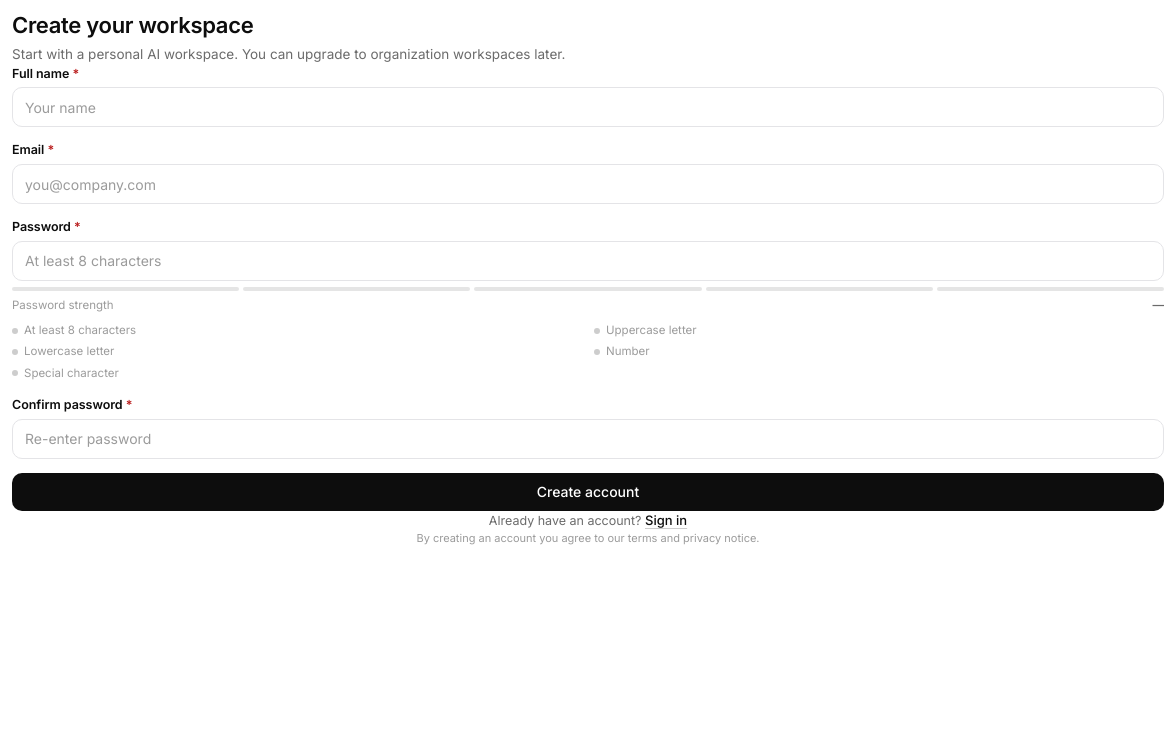
Test: SignupForm › flags mismatched passwords on submit
Type "Naruto" into the field labelled "Full name *" at [592, 107], box [25, 88, 1159, 126]
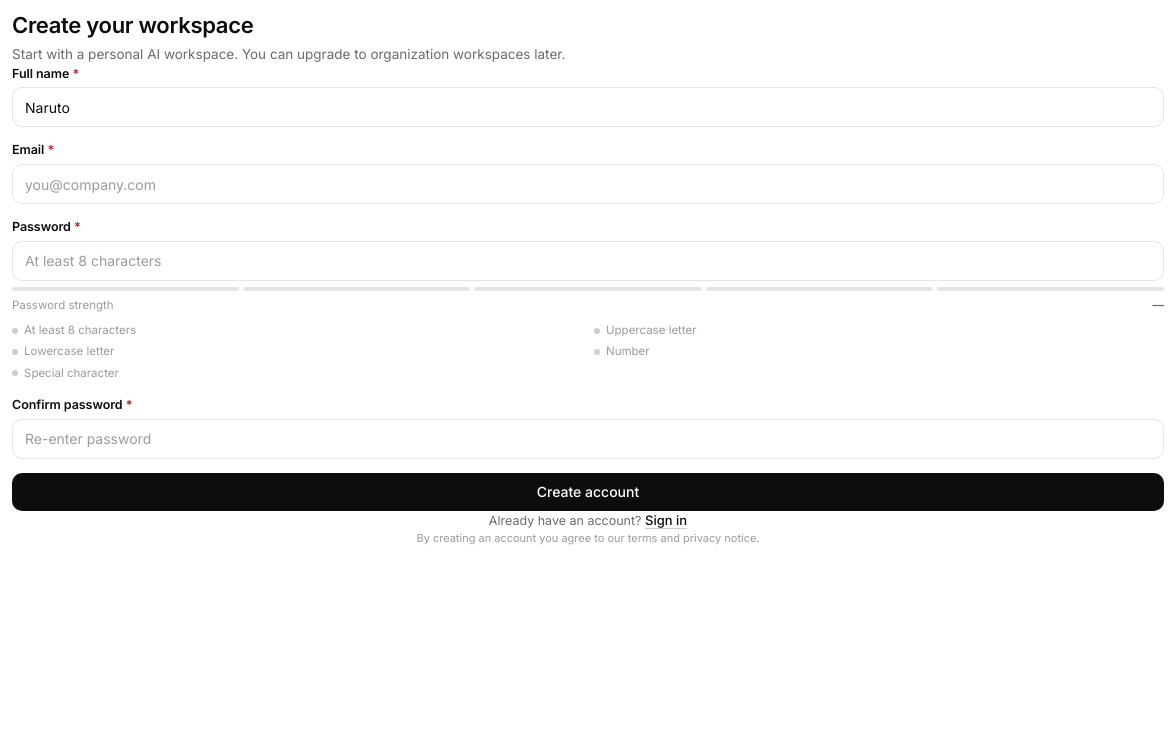
Type "n@k.co" into the field labelled "Email *" at [592, 184], box [25, 165, 1159, 203]
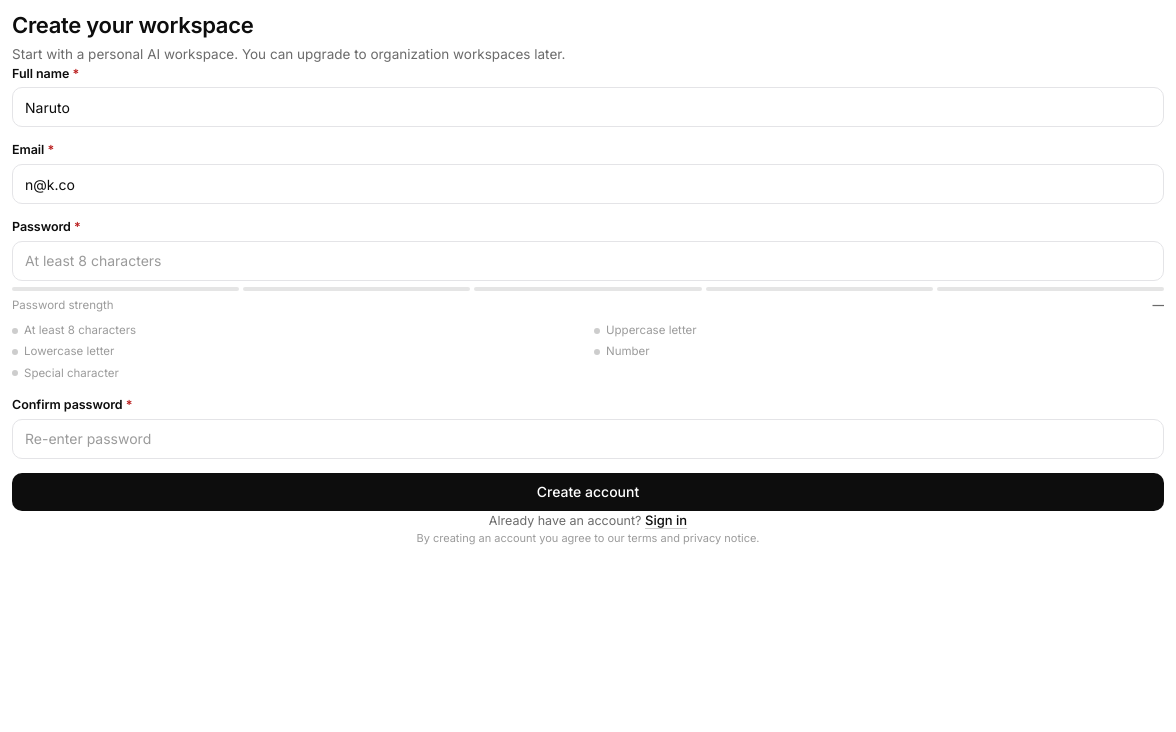
Type "abcd1234" into the password field labelled "Password *" at [592, 261], box [25, 242, 1159, 280]
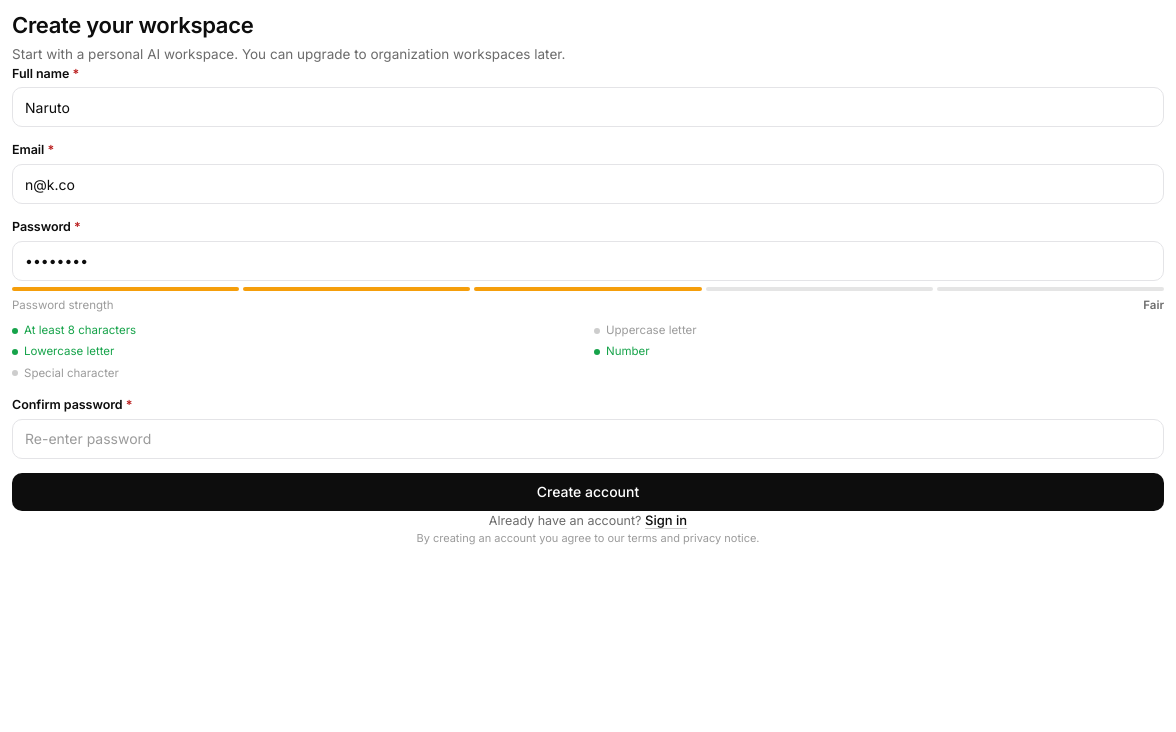
Type "different1" into the password field labelled "Confirm password *" at [592, 439], box [25, 420, 1159, 458]
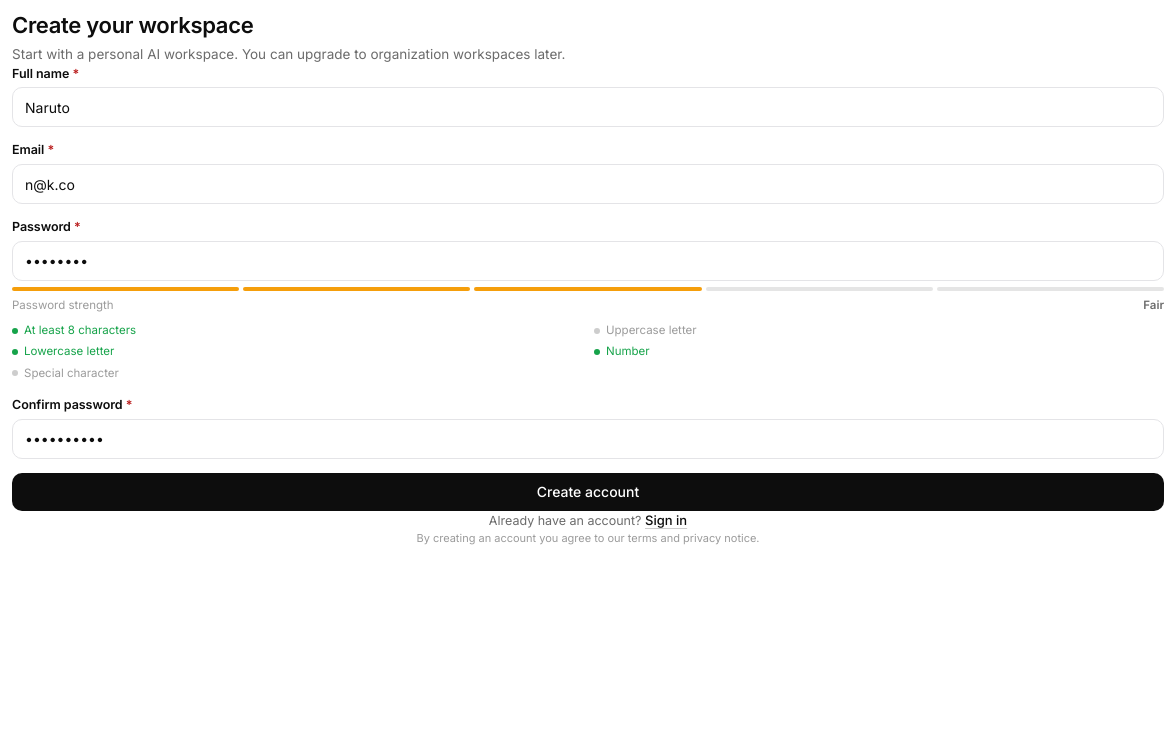
Click the button "Create account" at [588, 492], box [12, 473, 1164, 511]
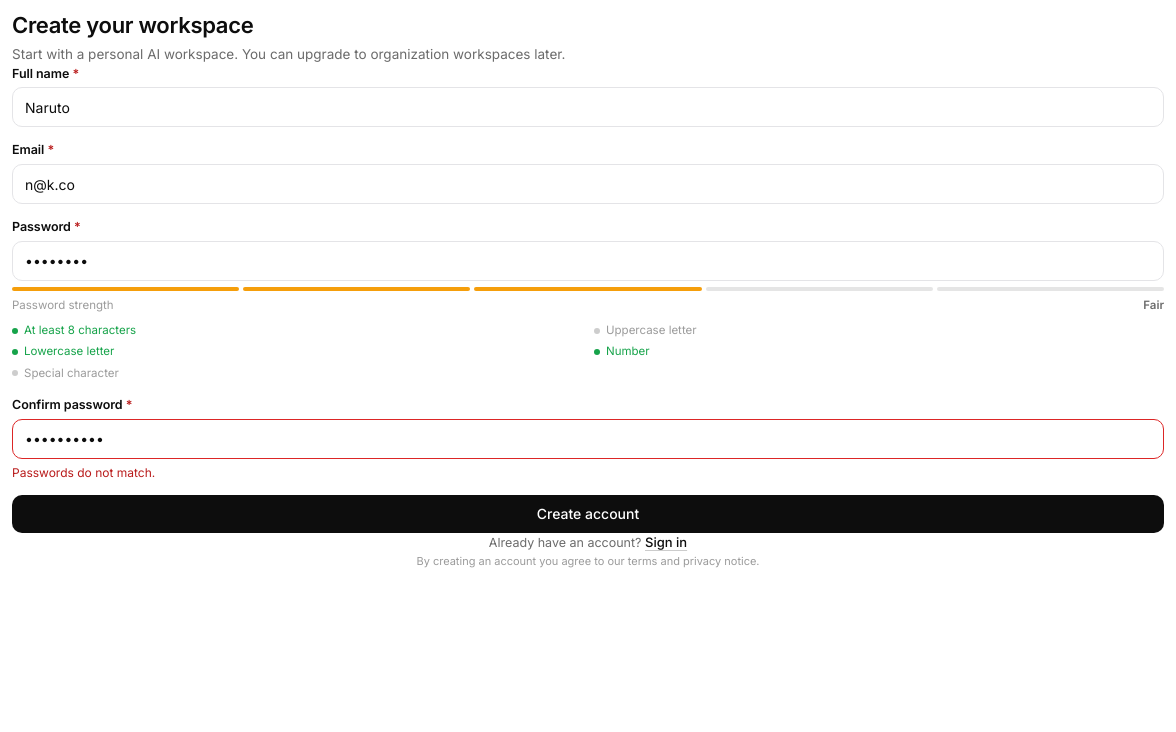
Expected: the text "Passwords do not match." is shown, [12, 465, 155, 480]
